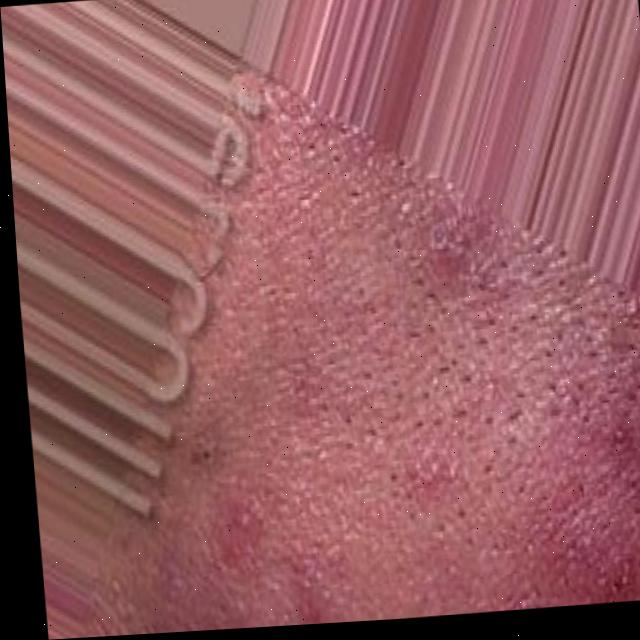Rosacea: (232, 199, 640, 627)
